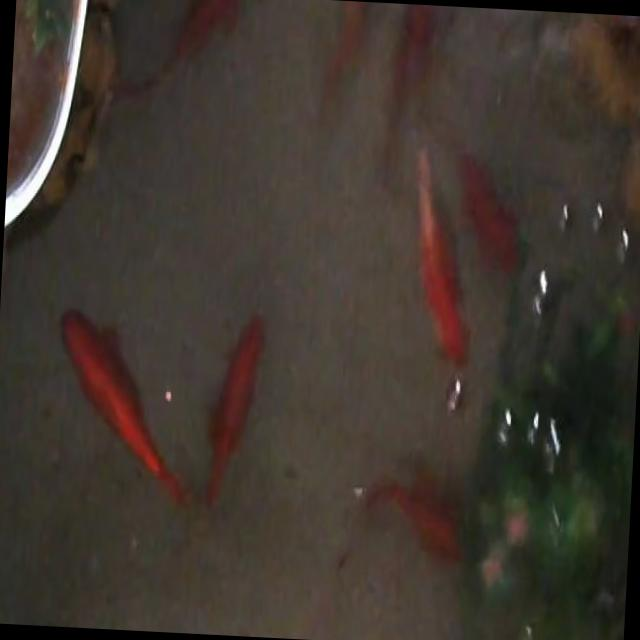fish: (50, 305, 204, 514), (196, 298, 280, 549), (404, 144, 478, 382), (109, 0, 249, 111), (353, 466, 471, 570), (452, 145, 528, 279), (384, 3, 439, 162), (320, 0, 370, 119)
